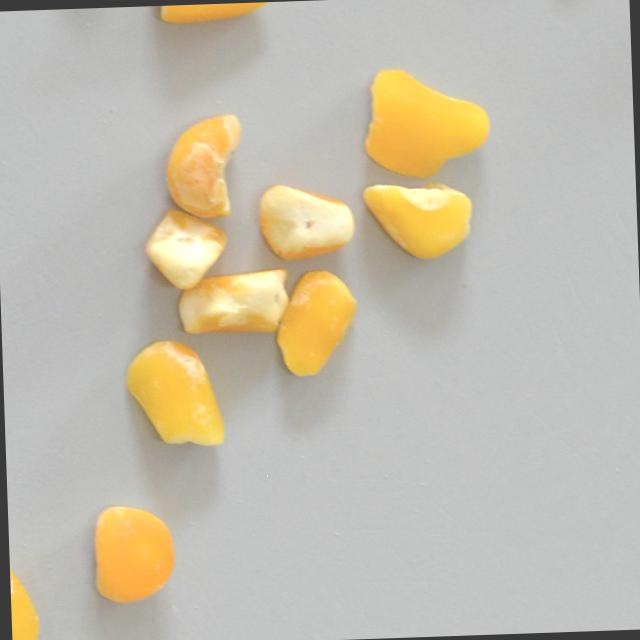dañado: (84, 498, 178, 607)
estandar: (256, 284, 369, 364)
pelicula: (359, 63, 493, 187), (120, 334, 228, 450), (358, 179, 475, 263), (159, 113, 245, 221), (143, 207, 230, 293), (8, 545, 42, 640), (154, 1, 273, 26)
punto_negro: (255, 181, 358, 265), (172, 269, 291, 337)
